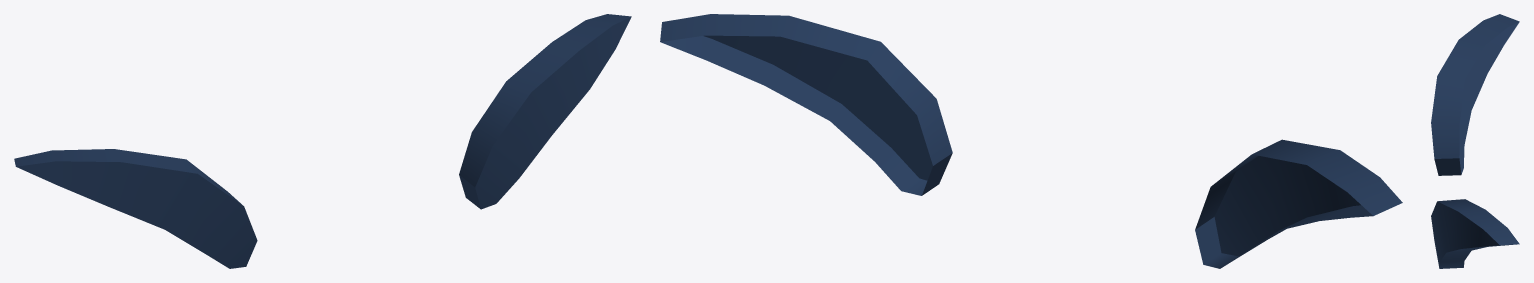
File: Brow_Blue_2.fbx
3 views of the same model, side by side, from view 1: azimuth 30°, elevation 25°; view 2: azimuth 150°, elevation 25°; view 3: azimuth 270°, elevation 25° (orthographic). The views are drawn at different scales.
Parts seen in each view (by area): view 1: Brow_Blue_2; view 2: Brow_Blue_2; view 3: Brow_Blue_2.
Boxes of the visible parts, left/top/right/bottom form: Brow_Blue_2: left=14, top=14, right=631, bottom=268; Brow_Blue_2: left=660, top=14, right=1402, bottom=268; Brow_Blue_2: left=1431, top=14, right=1519, bottom=268.
Size of the model in its own units: 27.94 by 5.35 by 4.54.
